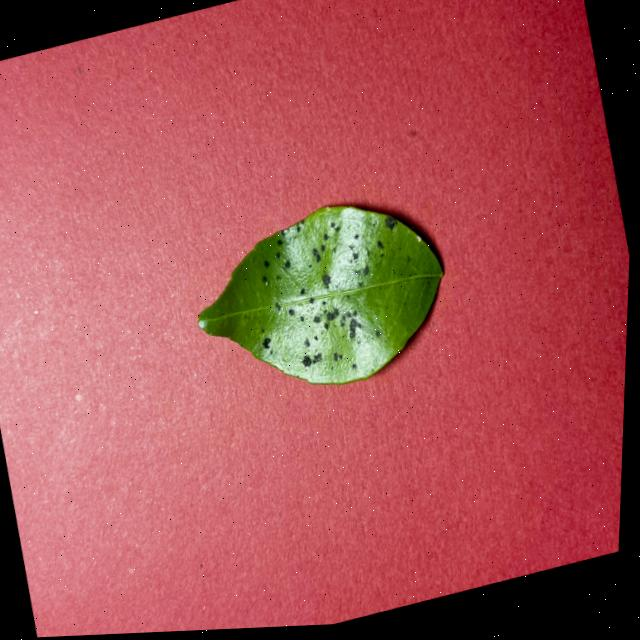sooty_mold: (198, 206, 443, 383)
